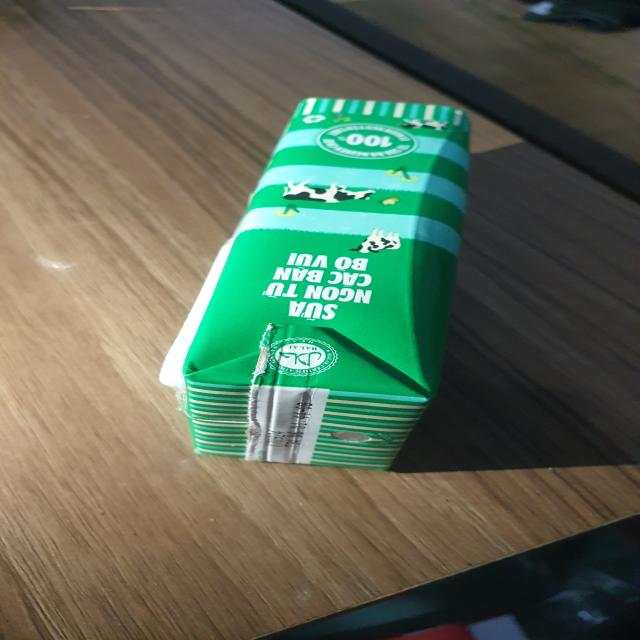Vina: (173, 96, 480, 474)
